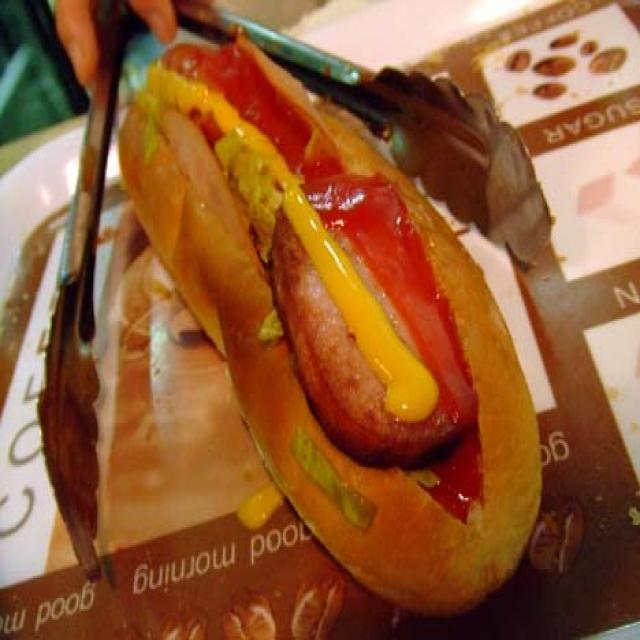Hot Dog: (119, 21, 546, 616)
